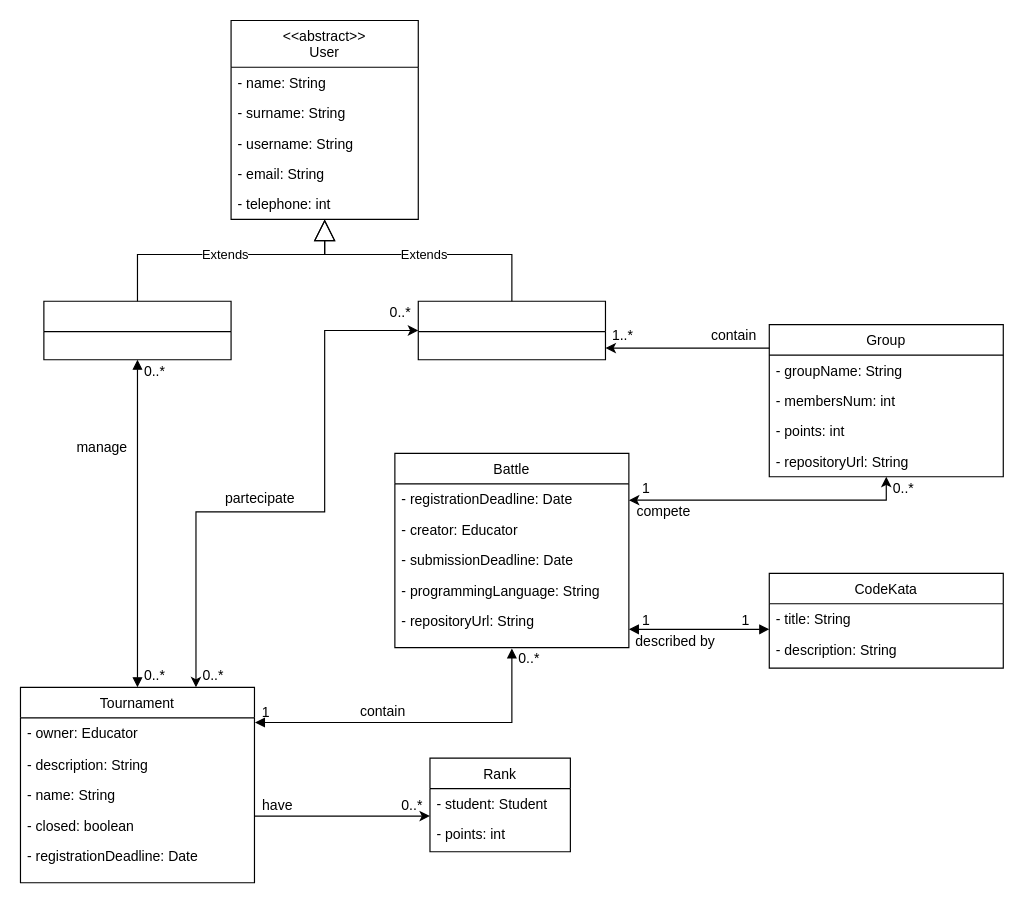
The diagram is 1024 pixels wide and 907 high, and some of its shapes have lost their labels. Each missing label, with the centre of its shape:
"Educator" goes at [137,330].
"Student" goes at [511,330].
